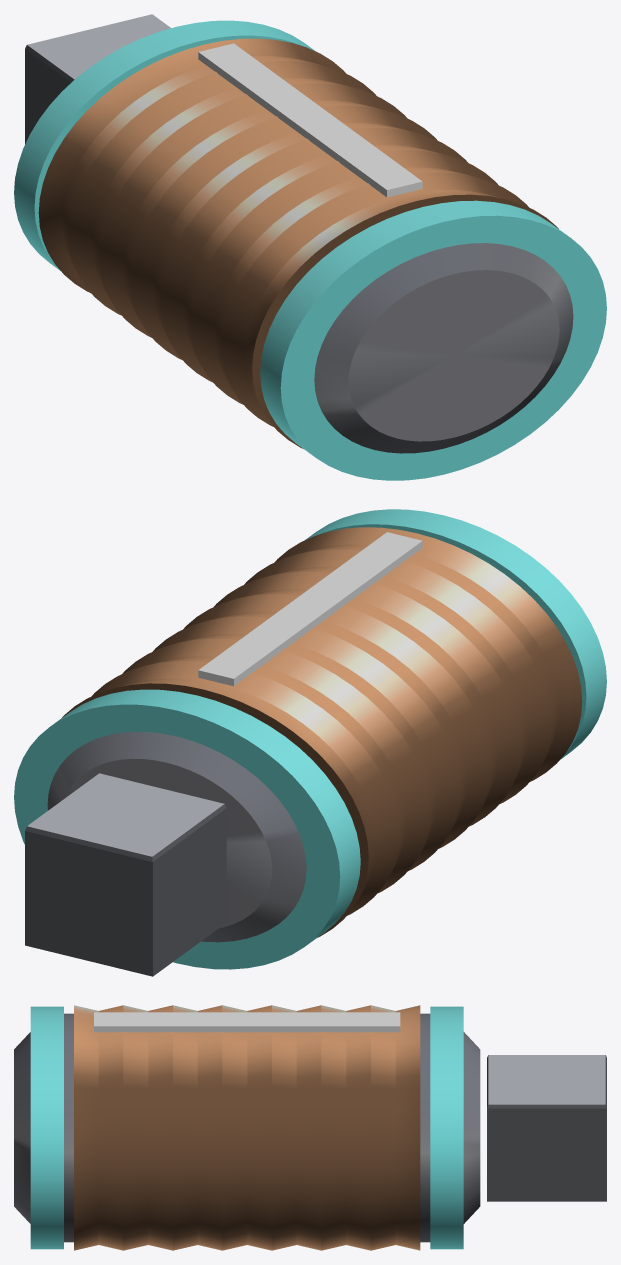
Rendered from pin_coil.glb.
The picture shows the model from 3 angles, top to bottom: view 1: azimuth 30°, elevation 25°; view 2: azimuth 150°, elevation 25°; view 3: azimuth 270°, elevation 25°; orthographic projection. The views are drawn at different scales.
Visible parts, largest first — view 1: Korpus, Licht; view 2: Korpus, Licht; view 3: Korpus, Licht.
Part boxes in pixels (x1,y1,x2,y2): Korpus: (14,14,606,480); Licht: (198,43,422,197); Korpus: (14,509,606,976); Licht: (198,532,422,686); Korpus: (14,1005,606,1250); Licht: (94,1012,400,1032).
Bounding box in the file's own units: 0.4644 × 0.352 × 0.89.
